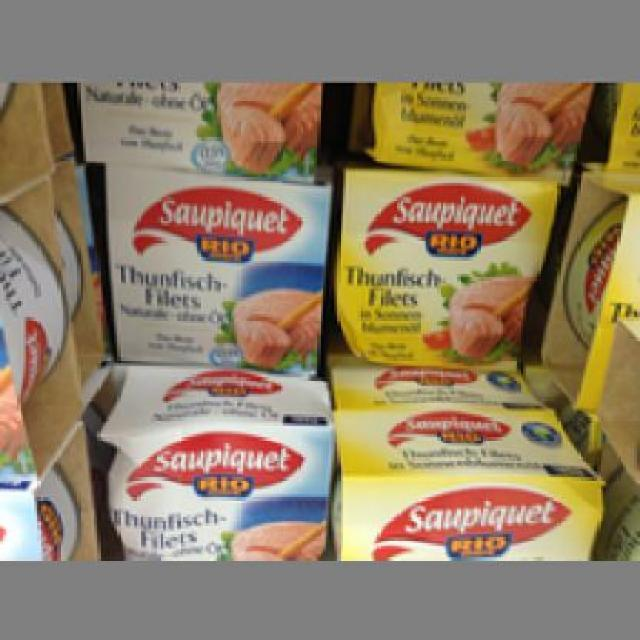Fish: (96, 157, 330, 374), (334, 162, 557, 372), (331, 400, 600, 557), (96, 377, 330, 554)
